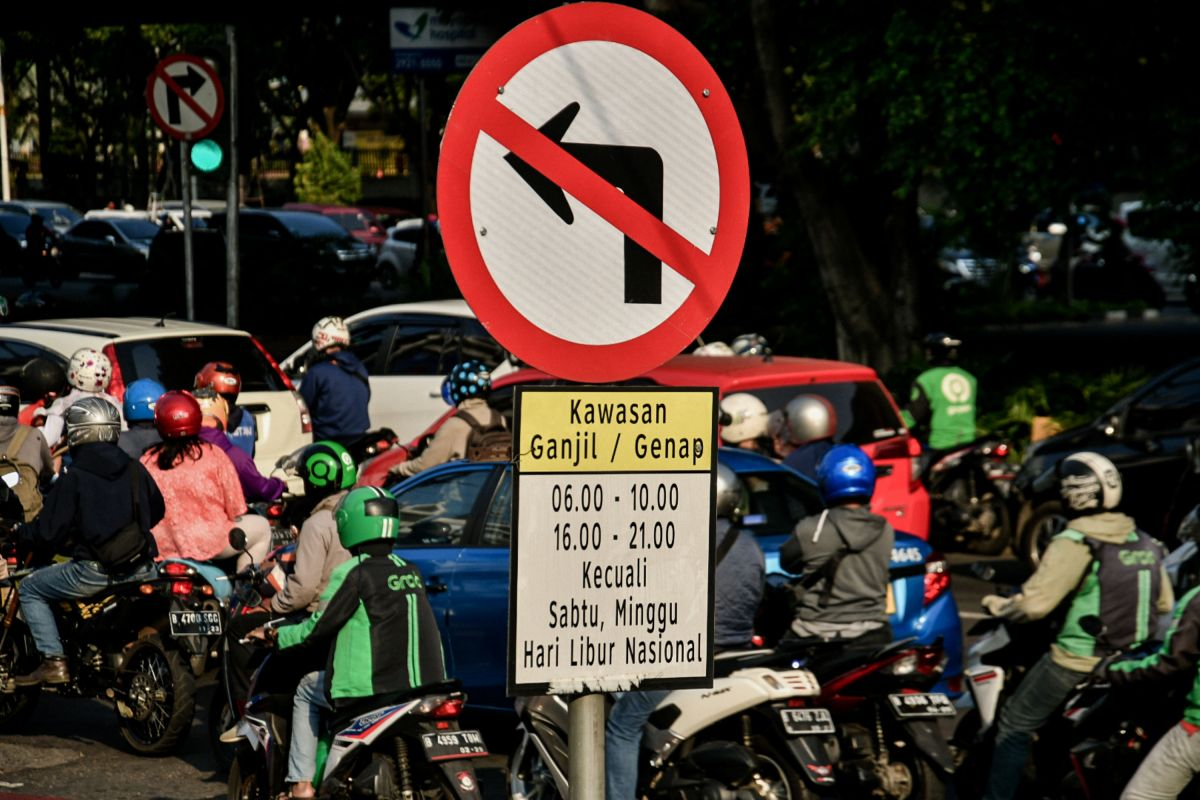sola_girilmez: (431, 0, 752, 384)
yaya: (984, 423, 1183, 799), (265, 483, 501, 799), (787, 454, 998, 799), (13, 411, 208, 745), (285, 313, 387, 472)
